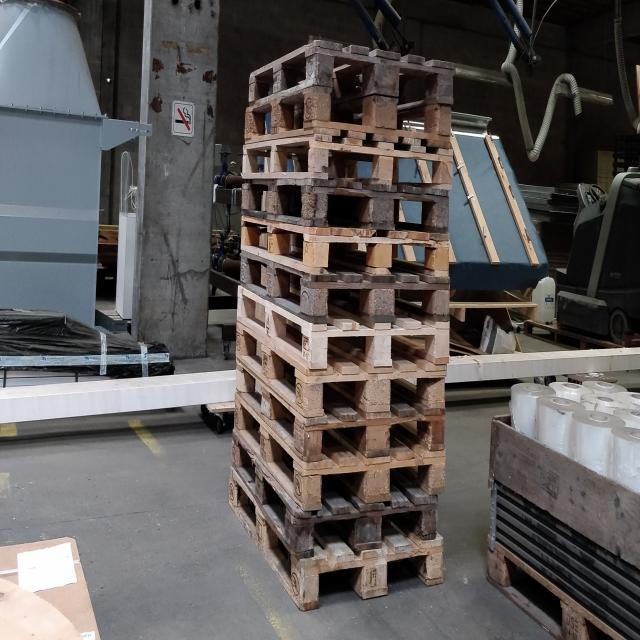block: (480, 539, 512, 586), (367, 278, 398, 321), (352, 509, 386, 548), (558, 599, 590, 640), (373, 53, 403, 95), (366, 374, 396, 415), (359, 421, 394, 456), (370, 188, 398, 230), (362, 466, 394, 501), (363, 561, 390, 602), (431, 60, 458, 101), (372, 94, 399, 134), (301, 561, 322, 612), (300, 465, 324, 508), (370, 331, 396, 370), (312, 87, 336, 129), (423, 546, 446, 589), (314, 46, 338, 87), (310, 139, 332, 183), (430, 327, 454, 366), (307, 328, 328, 372), (309, 181, 331, 223), (426, 375, 450, 413), (313, 280, 332, 326), (300, 421, 324, 457), (430, 282, 452, 321), (297, 516, 319, 554), (373, 232, 395, 270), (305, 374, 324, 417), (436, 146, 455, 188), (311, 233, 332, 270), (378, 150, 397, 190), (427, 417, 446, 455), (422, 498, 440, 537), (435, 103, 455, 138), (433, 233, 450, 274), (431, 198, 451, 231), (428, 463, 449, 492)
front: (297, 538, 440, 606), (308, 131, 460, 194), (310, 39, 459, 100), (295, 498, 442, 554), (309, 83, 458, 138), (305, 179, 452, 232), (300, 461, 453, 511), (304, 373, 455, 420), (303, 233, 456, 278), (302, 419, 453, 464), (307, 326, 456, 368), (305, 280, 456, 321)
